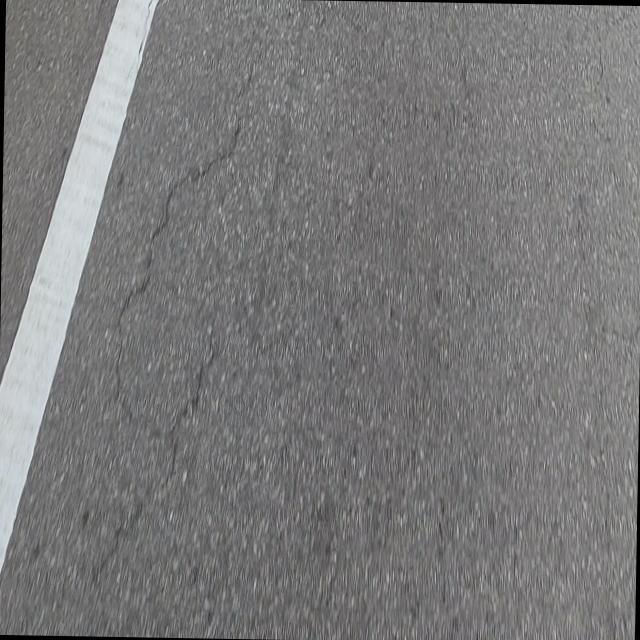Retak-Memanjang: (110, 117, 245, 435), (88, 350, 218, 590)
